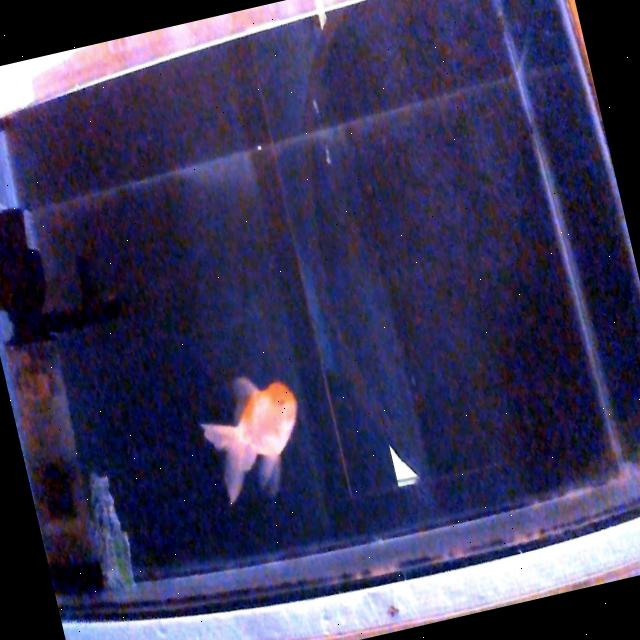fish: (201, 377, 297, 503)
